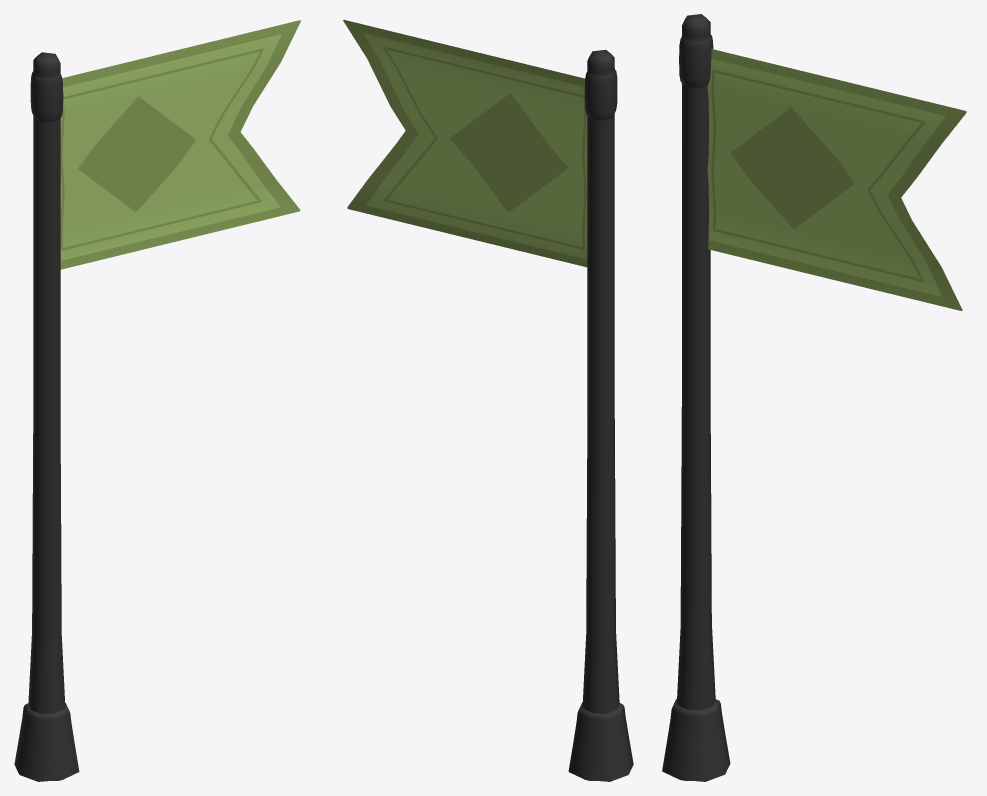
Rendered from Flagpole.fbx.
3 views of the same model, side by side, from view 1: azimuth 30°, elevation 25°; view 2: azimuth 150°, elevation 25°; view 3: azimuth 330°, elevation 25° (orthographic). The views are drawn at different scales.
Parts seen in each view (by area): view 1: Flag, LampPole; view 2: Flag, LampPole; view 3: Flag, LampPole.
Part boxes in pixels (x1,y1,x2,y2): Flag: (60, 20, 300, 269); LampPole: (14, 52, 79, 781); Flag: (343, 20, 587, 267); LampPole: (568, 50, 633, 781); Flag: (707, 49, 966, 310); LampPole: (662, 14, 730, 781).
Bounding box in the file's own units: 2.64 × 6.29 × 0.5033.
